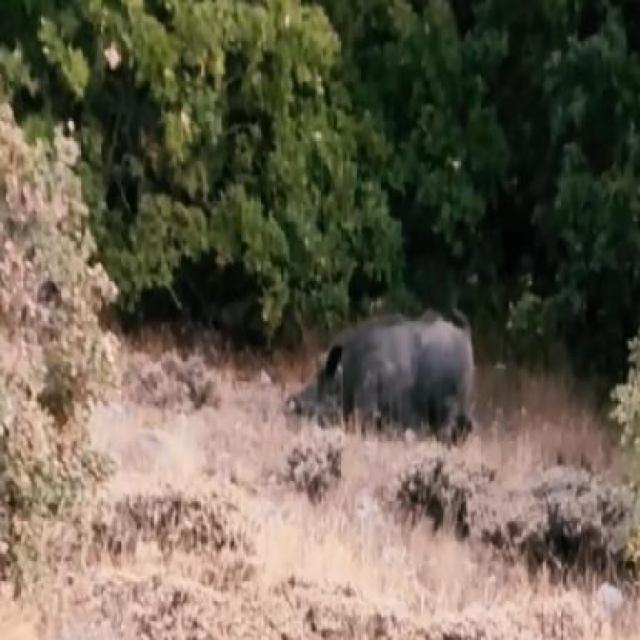pig: (262, 268, 508, 507)
